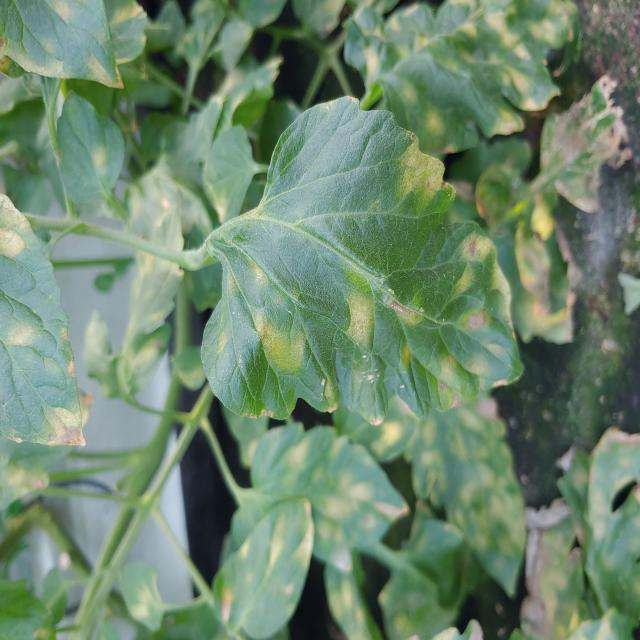Leaf Mold: (202, 98, 523, 428), (363, 1, 579, 157), (249, 418, 410, 574), (402, 404, 527, 600), (0, 190, 92, 451), (210, 497, 314, 640), (0, 0, 125, 94)
